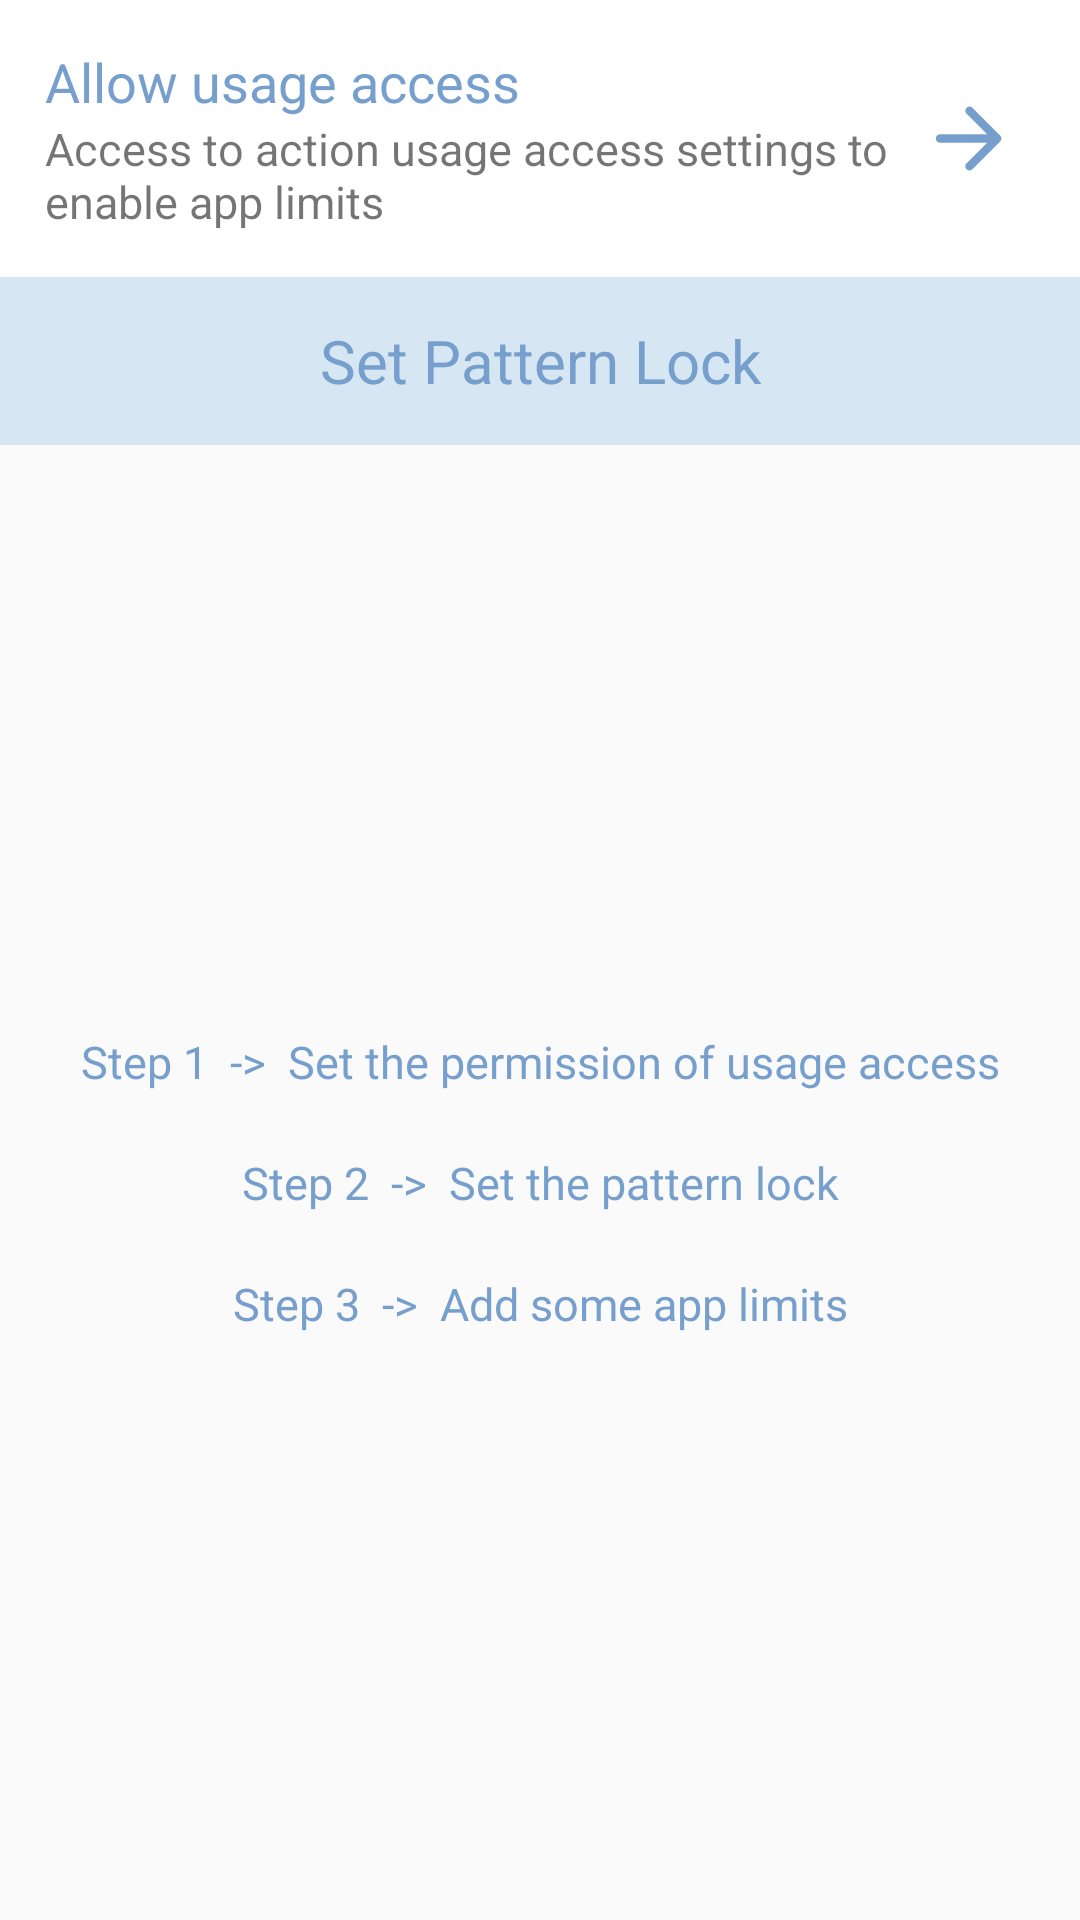

Named icons in this screenshot (1080x1920) and their bounding boxes, (x1, y1, x2, y2):
arrow forward: (936, 106, 1002, 171)
